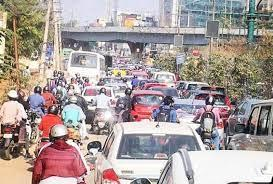helmet: (49, 124, 69, 143), (48, 104, 59, 116), (205, 95, 216, 106), (68, 96, 78, 106), (33, 86, 42, 95), (124, 87, 133, 96), (99, 87, 107, 96)
